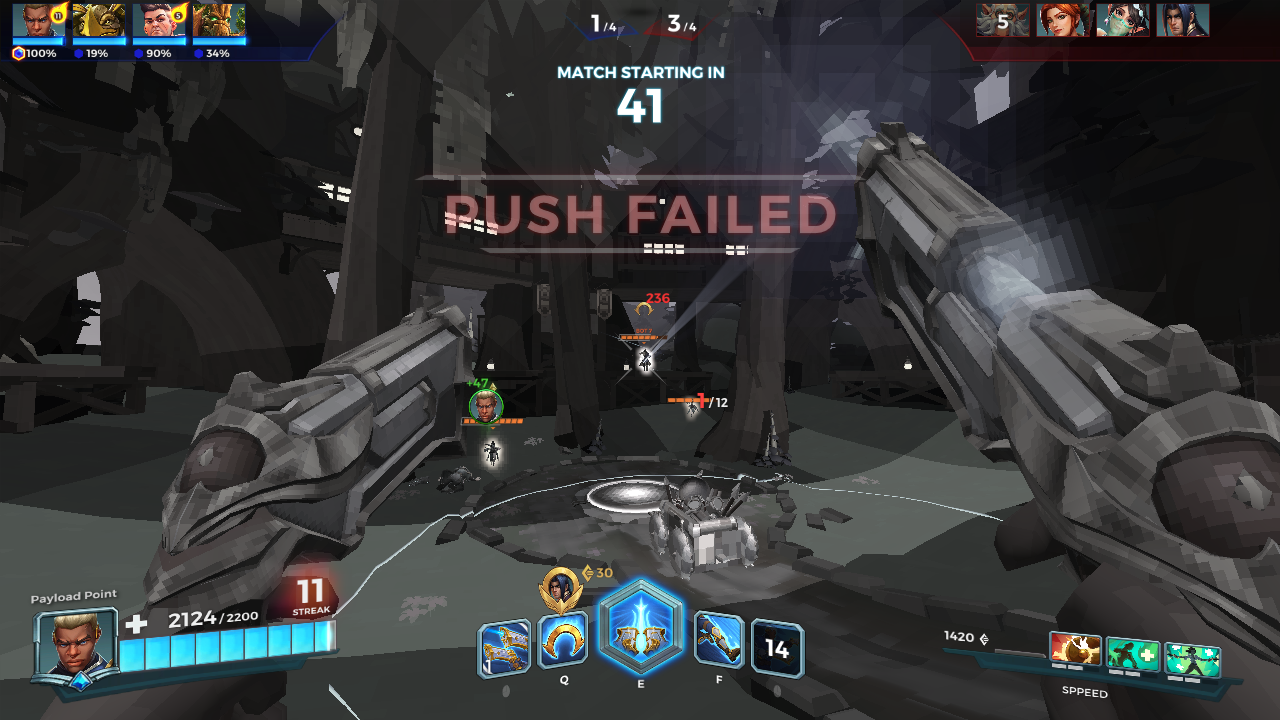model: (483, 435, 504, 470), (635, 346, 656, 373), (686, 398, 700, 425)
